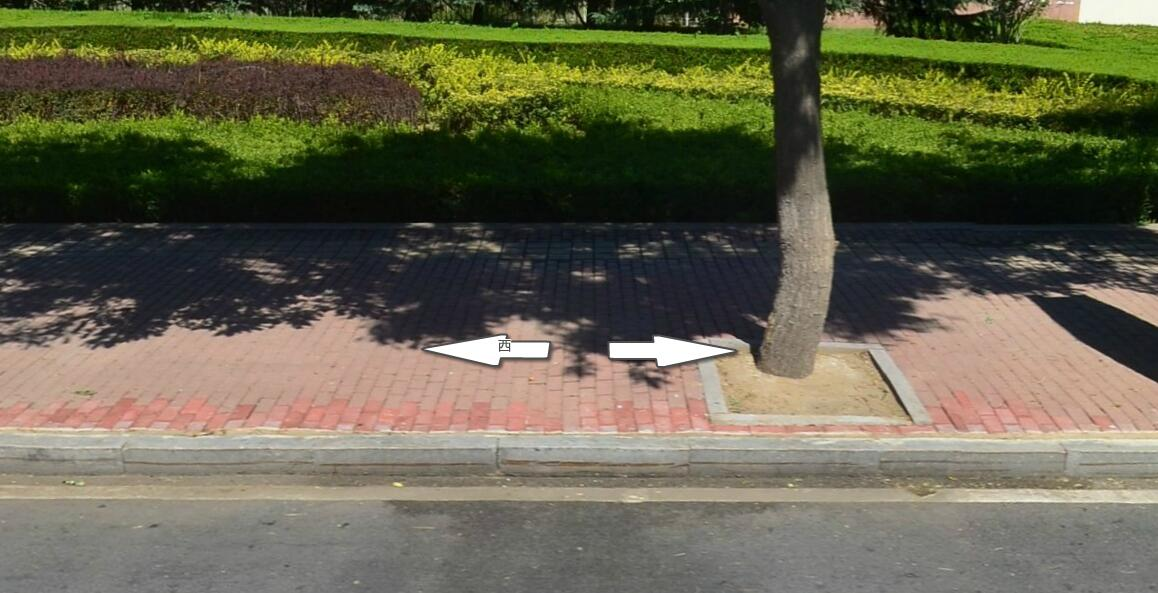side: (118, 434, 334, 474), (497, 437, 691, 478), (689, 439, 880, 480), (878, 442, 1068, 480), (331, 436, 500, 475)
